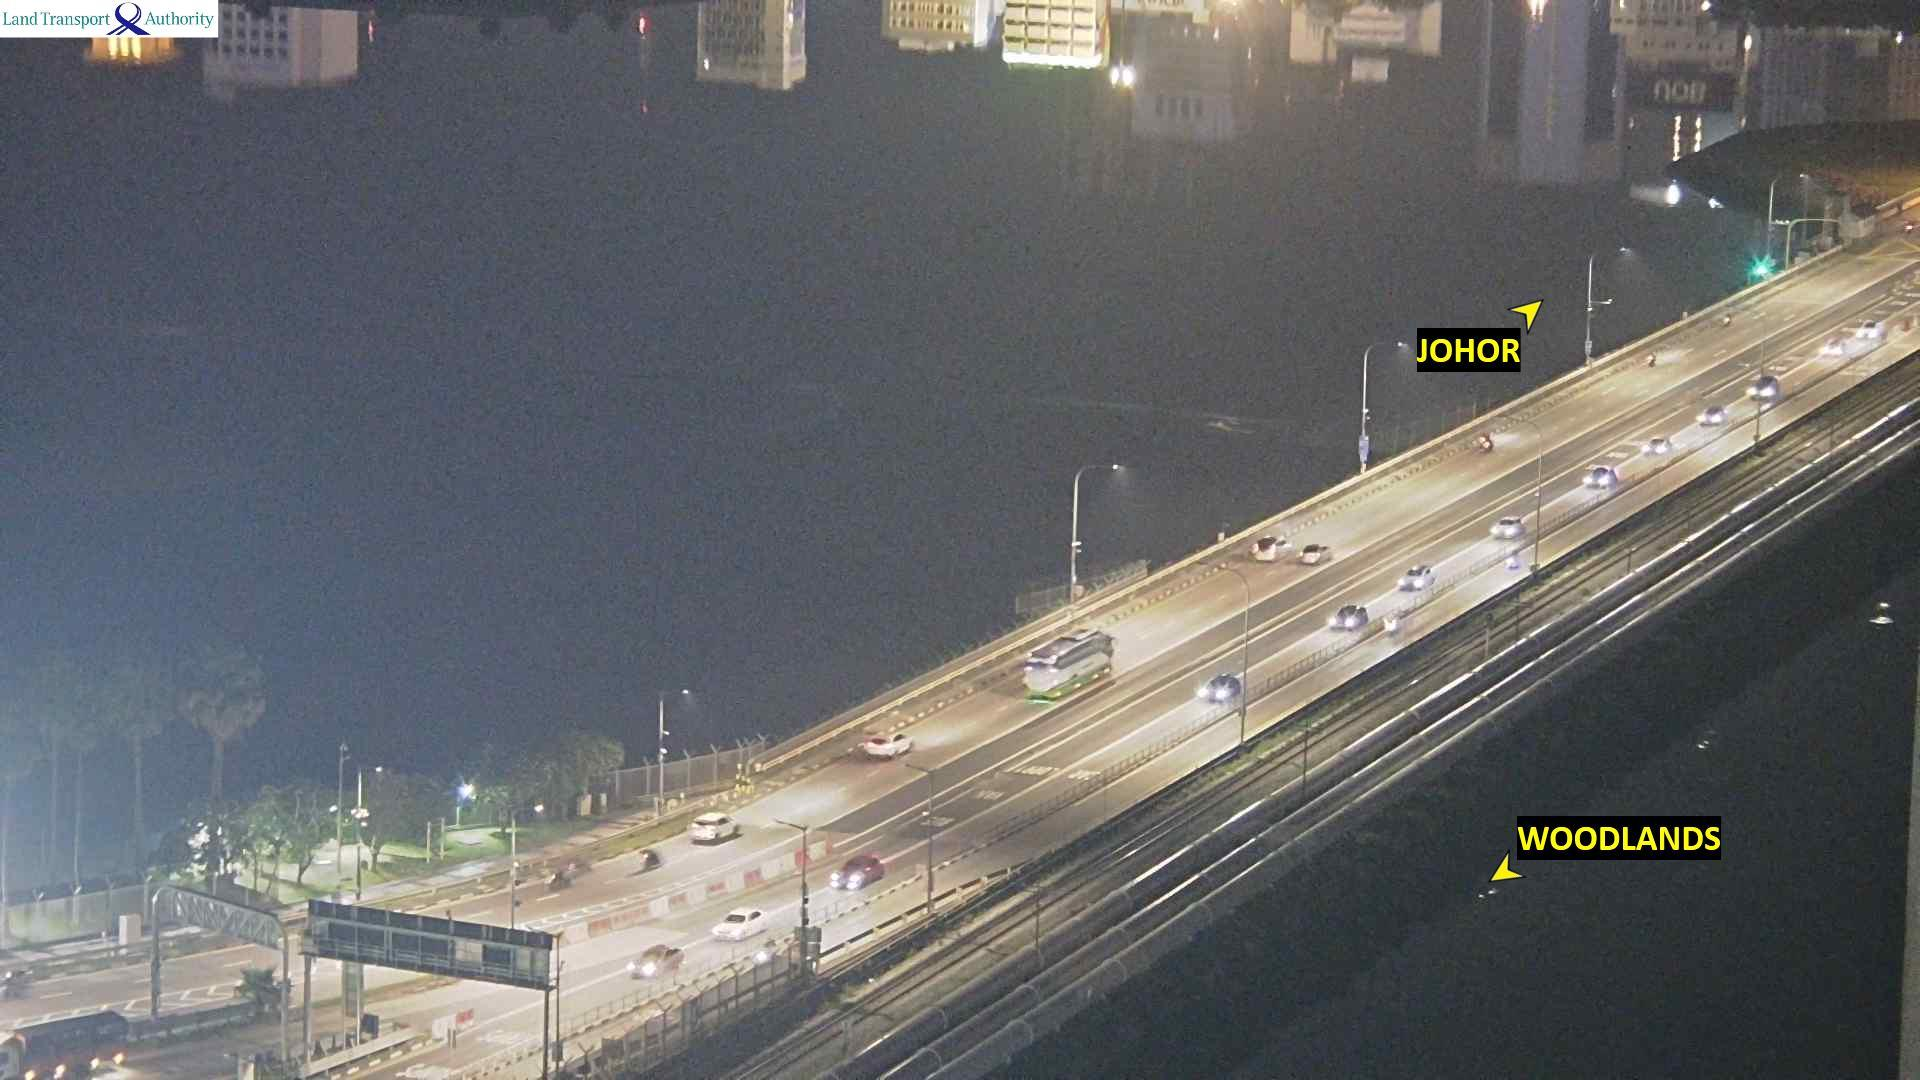vehicle-causeway-johor: (1026, 621, 1112, 700), (690, 818, 745, 844), (543, 856, 584, 890), (858, 737, 910, 761), (626, 844, 661, 876), (1255, 533, 1288, 562), (1296, 543, 1331, 563), (1477, 431, 1493, 454), (1718, 314, 1730, 332), (1902, 218, 1912, 235), (1648, 351, 1656, 368)
vehicle-causeway-singapore: (0, 1013, 131, 1080), (625, 944, 686, 977), (831, 853, 884, 890), (1199, 674, 1250, 708), (712, 909, 767, 938), (1324, 604, 1369, 633), (1399, 566, 1437, 592), (1489, 517, 1524, 542), (1751, 373, 1778, 397), (1585, 469, 1618, 488), (1697, 407, 1725, 427), (1855, 319, 1880, 340), (1822, 332, 1844, 357), (1643, 442, 1676, 458)
